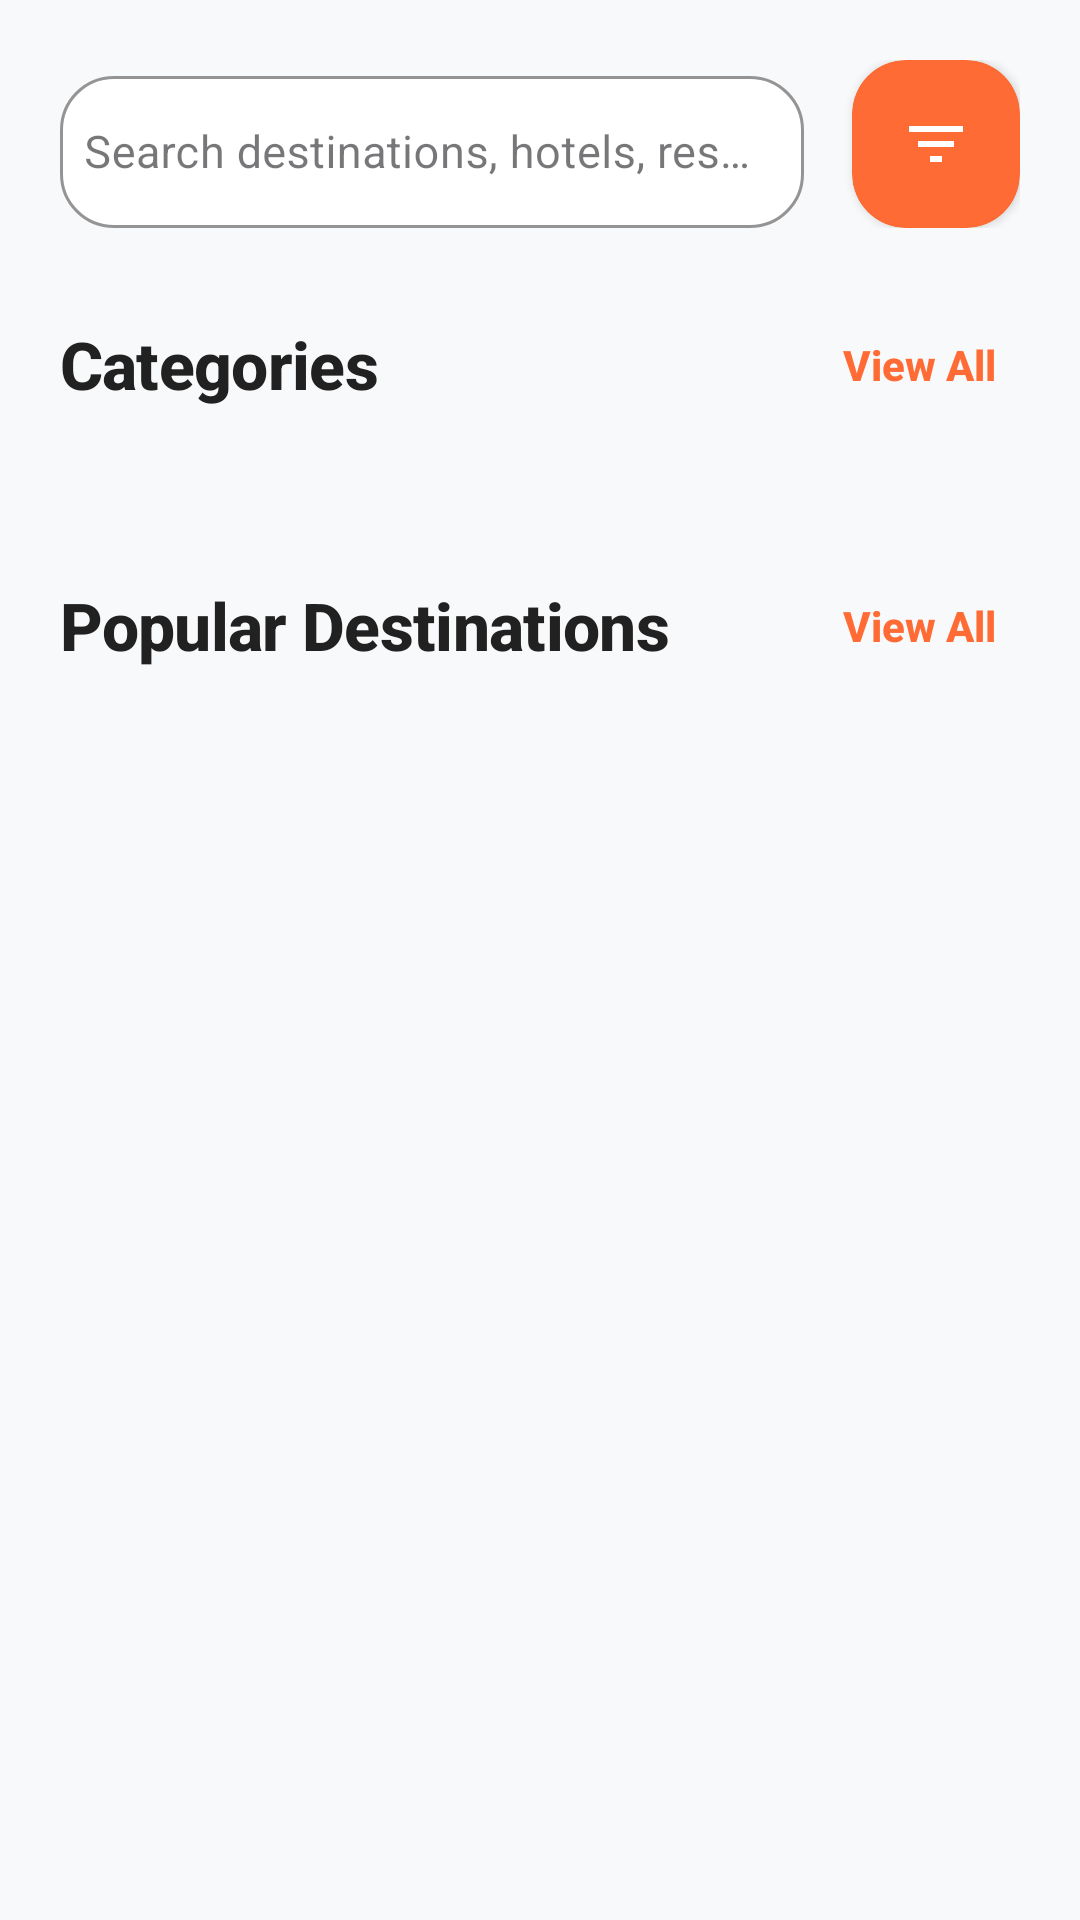

Named icons in this screenshot (1080*1920) and their centers, [x,y]:
Filter: [936,144]
